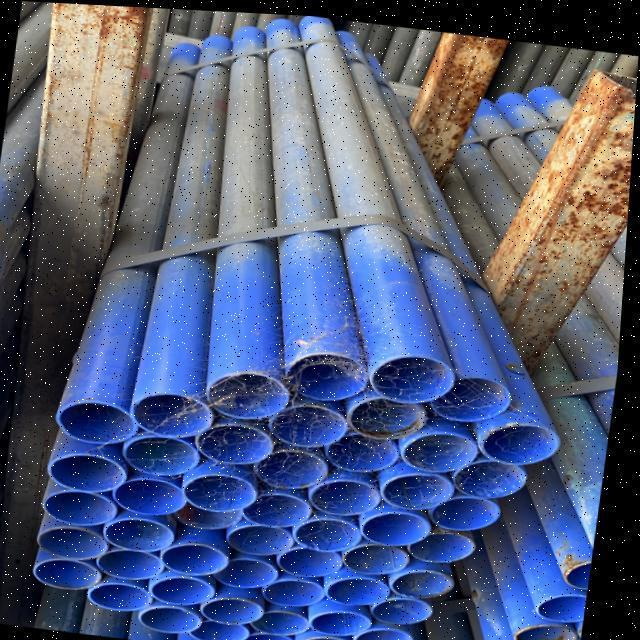pipe: (283, 348, 370, 398), (272, 388, 354, 440), (427, 367, 512, 416), (371, 349, 455, 398), (205, 370, 288, 417), (253, 442, 336, 488), (59, 401, 143, 446), (314, 422, 404, 464), (134, 391, 212, 437), (51, 448, 134, 491), (349, 389, 430, 433), (451, 448, 532, 492), (402, 421, 481, 466), (481, 417, 560, 461), (198, 419, 276, 463), (47, 482, 131, 522), (186, 468, 263, 511), (416, 488, 505, 525), (400, 520, 483, 559), (124, 433, 202, 474), (113, 473, 192, 513), (363, 495, 437, 537), (310, 470, 382, 513), (243, 484, 318, 524), (383, 464, 461, 502), (101, 516, 181, 553), (341, 536, 415, 575), (88, 546, 174, 579), (297, 510, 369, 548), (207, 549, 291, 581), (228, 518, 300, 553), (164, 539, 233, 575), (371, 590, 441, 625), (273, 543, 351, 574), (37, 556, 106, 590), (392, 561, 460, 595), (199, 593, 273, 622), (264, 571, 329, 604), (177, 499, 252, 527), (329, 571, 396, 602), (43, 527, 109, 558), (92, 579, 157, 610), (315, 603, 381, 631), (157, 573, 219, 602), (254, 604, 317, 631), (144, 604, 208, 630), (522, 616, 583, 640), (193, 618, 253, 640), (359, 622, 421, 640), (544, 590, 587, 613), (244, 632, 299, 640), (306, 633, 362, 640)
